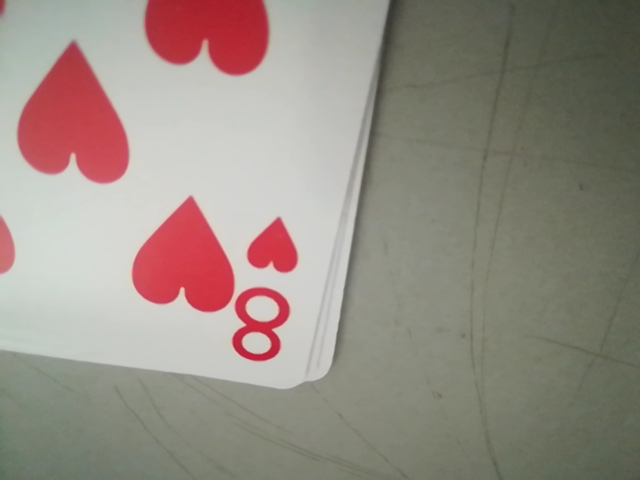hx 8: (229, 207, 311, 361)
